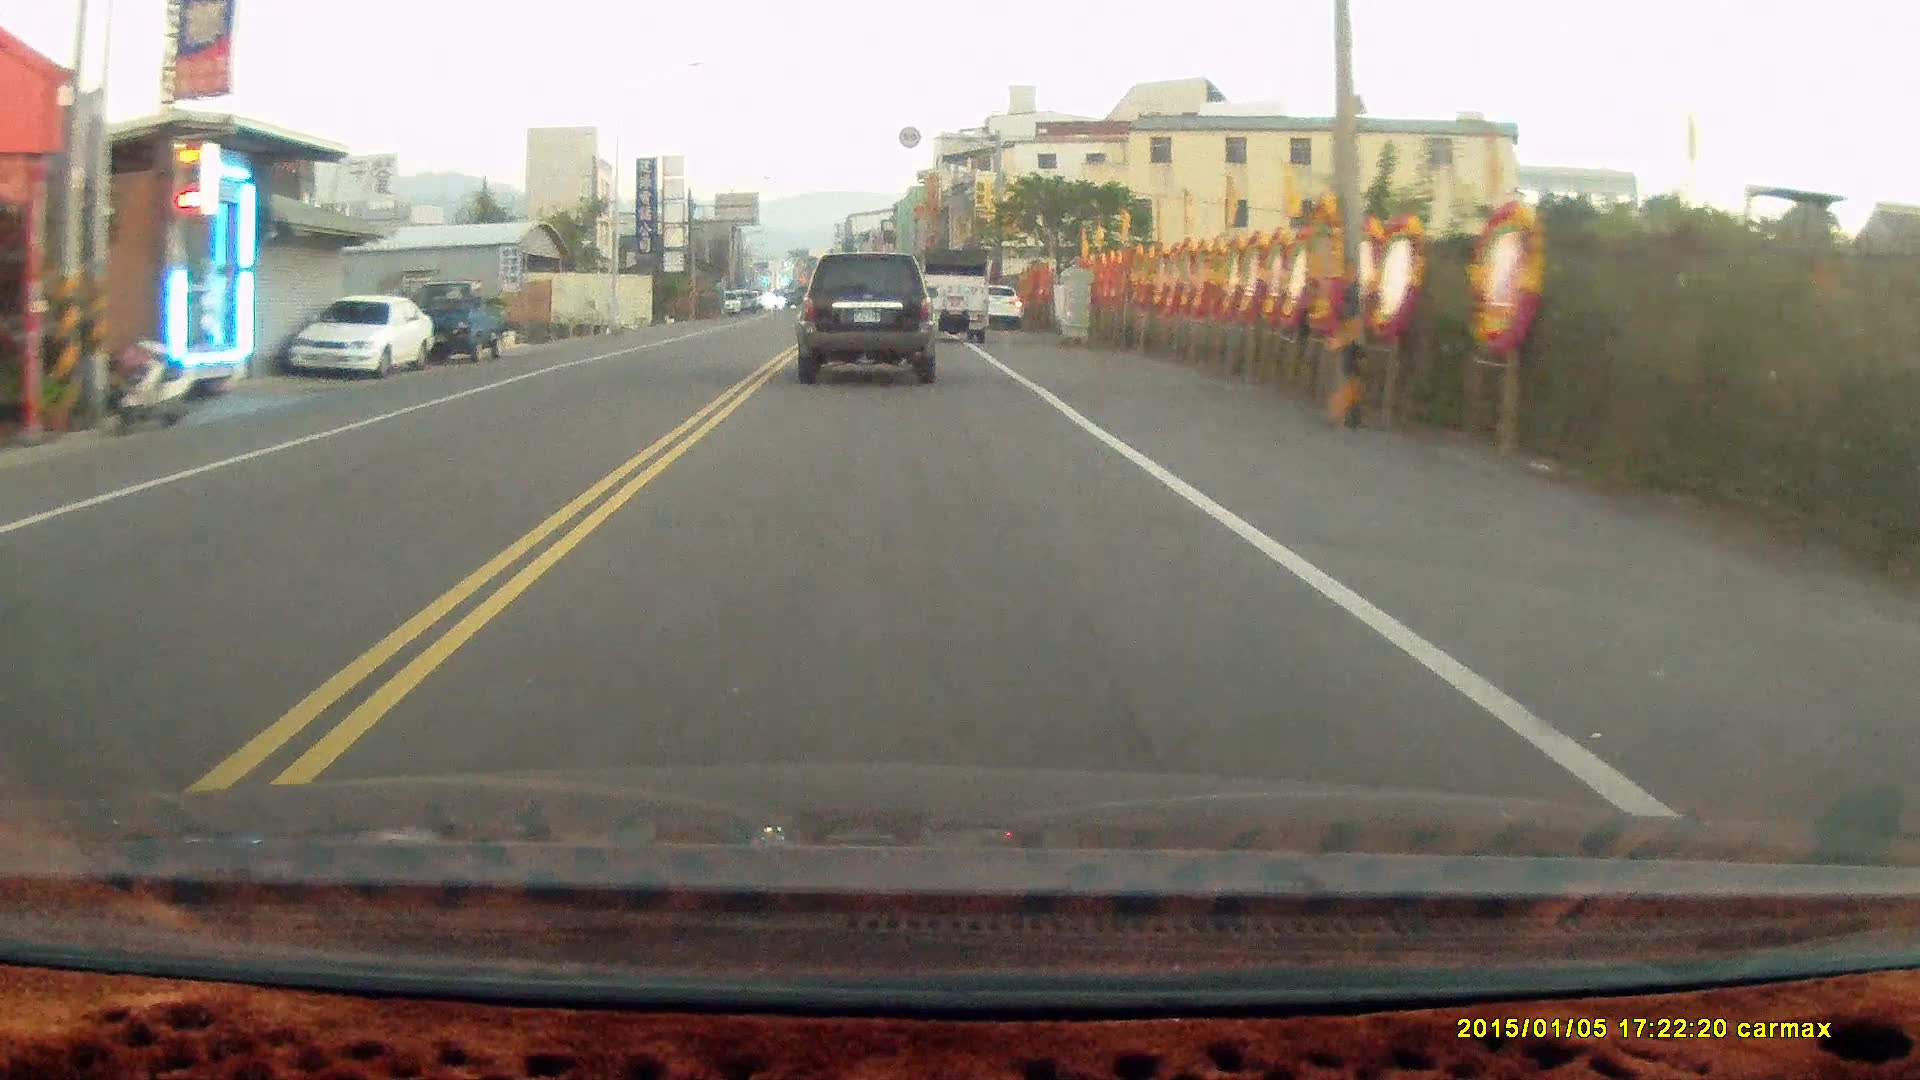vehicle: (800, 248, 942, 382), (291, 290, 436, 377), (411, 278, 516, 364), (916, 247, 994, 343)
